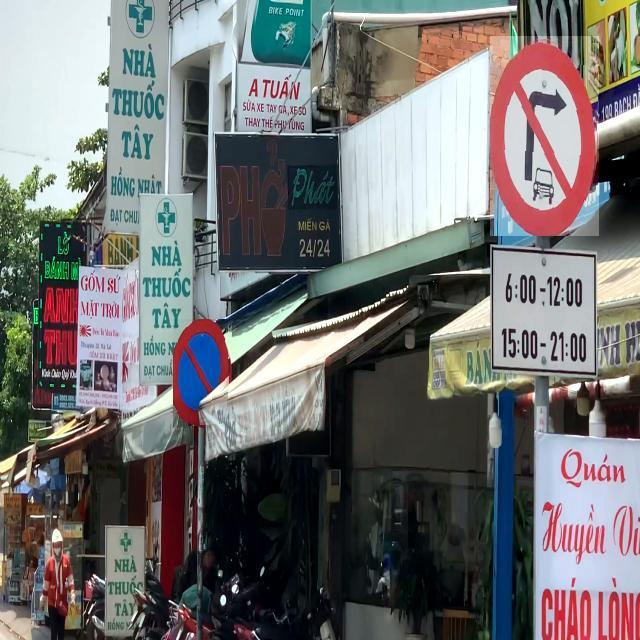P-103a: (490, 37, 599, 237)
P-131a: (173, 319, 233, 428)
